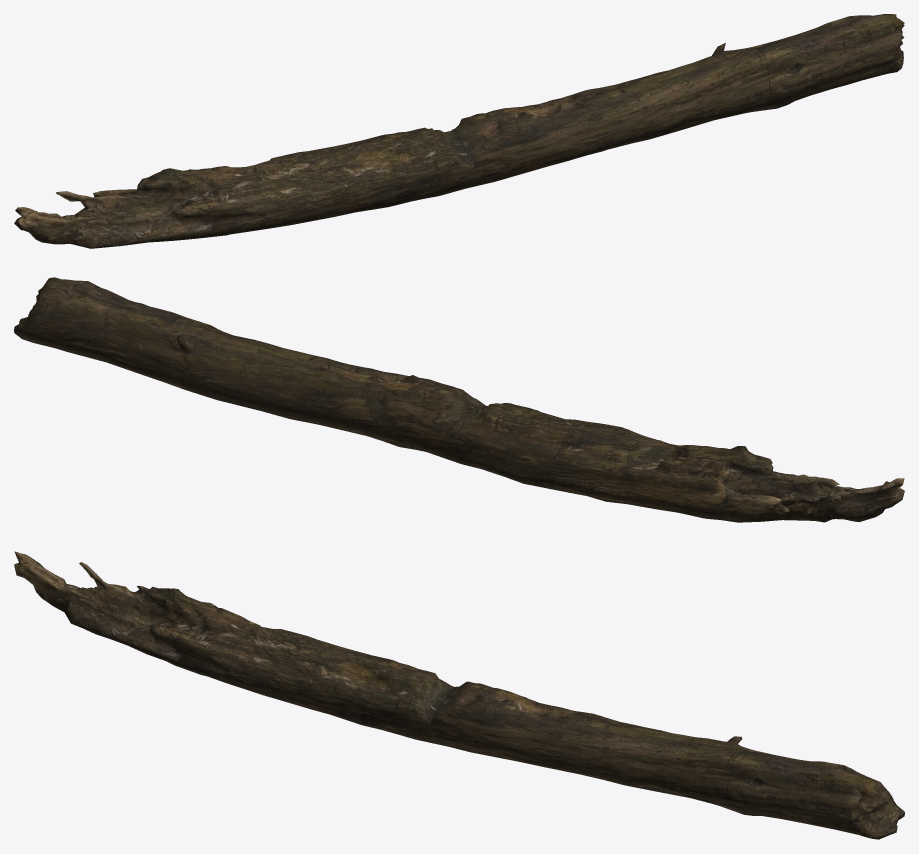
File: dead_tree_trunk.glb
The picture shows the model from 3 angles, top to bottom: view 1: azimuth 30°, elevation 25°; view 2: azimuth 150°, elevation 25°; view 3: azimuth 330°, elevation 25°; orthographic projection.
Parts seen in each view (by area): view 1: dead_tree_trunk_lod0; view 2: dead_tree_trunk_lod0; view 3: dead_tree_trunk_lod0.
Part boxes in pixels (x1,y1,x2,y2): dead_tree_trunk_lod0: (14,14,904,248); dead_tree_trunk_lod0: (14,277,904,522); dead_tree_trunk_lod0: (14,551,904,839).
Size of what is drawn, in the model's own units: 3.05 by 0.2901 by 0.2763.
Materials: 1 (1 with a texture image).
